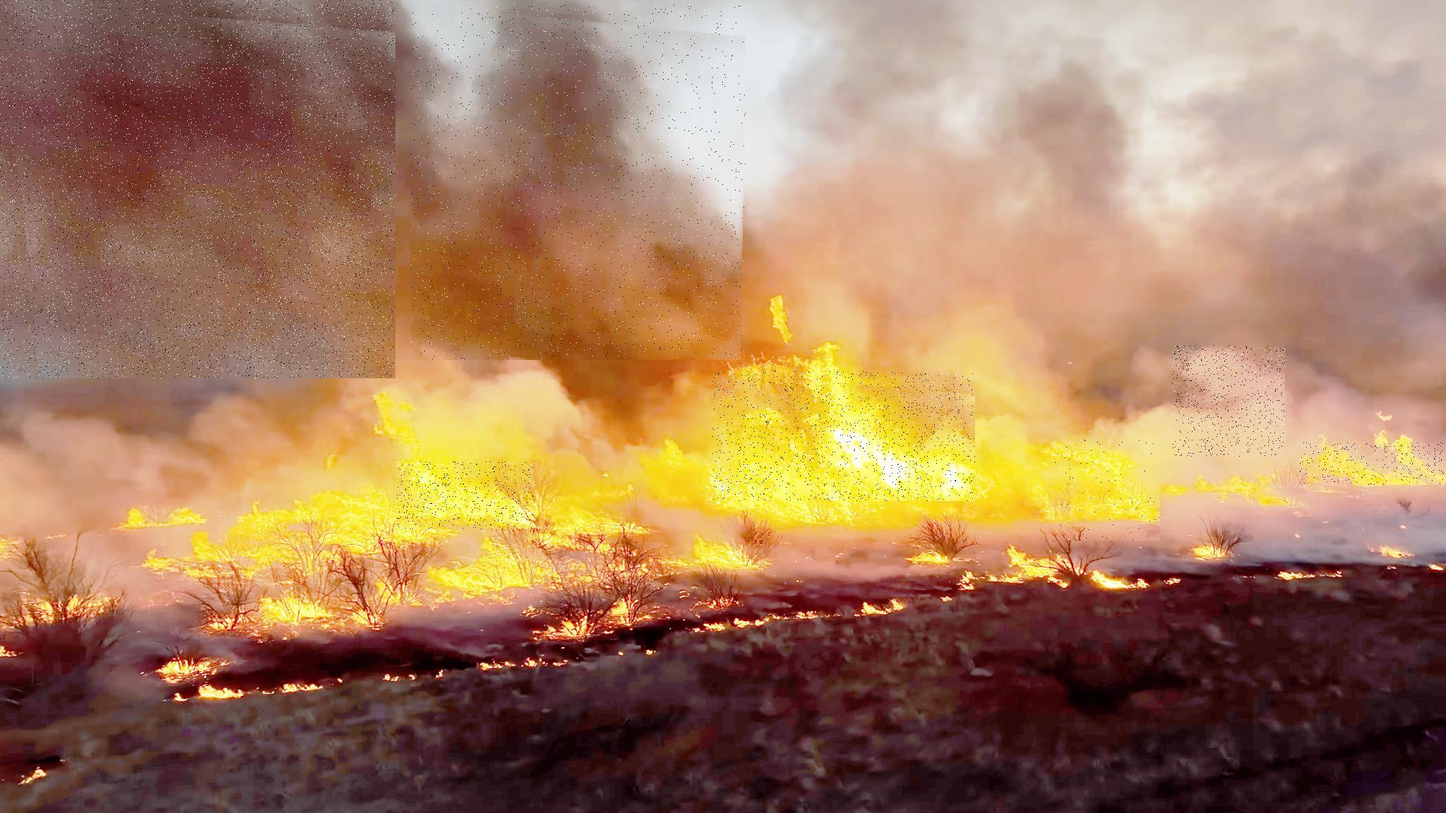fire: (712, 371, 975, 501), (1051, 439, 1160, 541), (397, 462, 535, 529), (1300, 442, 1445, 485)
smoke: (0, 0, 395, 378), (411, 4, 746, 360), (1172, 345, 1285, 457)
